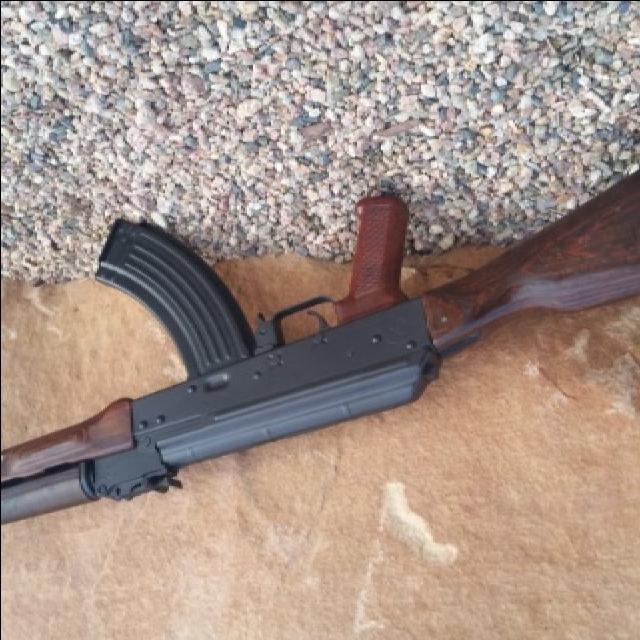rifle: (1, 179, 639, 533)
